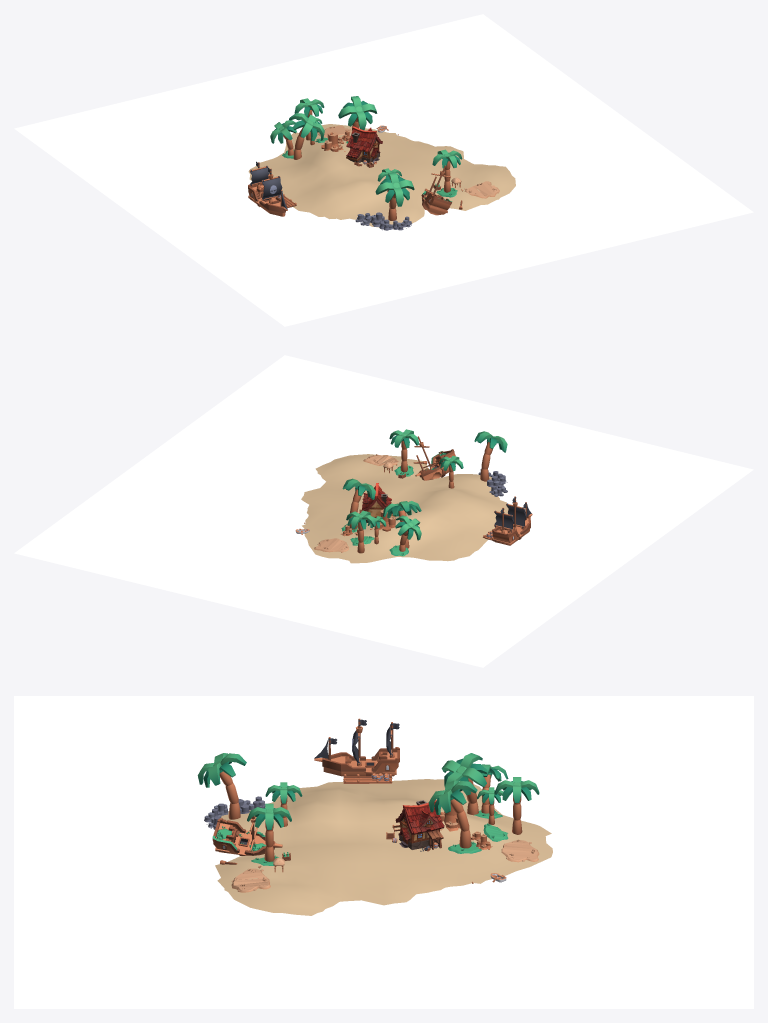
Rendered from island.glb.
3 views of the same model, one above another, from view 1: azimuth 30°, elevation 25°; view 2: azimuth 150°, elevation 25°; view 3: azimuth 270°, elevation 25° (orthographic). The views are drawn at different scales.
Visible parts, largest first — view 1: water, terrain, House, palm-detailed-bend.002, palm-detailed-bend, palm-detailed-bend.001, ship-pirate-large, ship-wreck, palm-detailed-straight; view 2: water, terrain, ship-pirate-large, ship-wreck, palm-detailed-bend.002, House, palm-detailed-straight, palm-detailed-straight.001, palm-detailed-bend.003, palm-detailed-bend; view 3: water, terrain, ship-pirate-large, House, ship-wreck, palm-detailed-bend, palm-detailed-bend.002, palm-detailed-bend.001, palm-detailed-straight, palm-detailed-straight.001, patch-sand-foliage.001, patch-sand-foliage (+1 smaller).
Part boxes in pixels (x1=…): water: x1=14, y1=14, x2=753, y2=326; terrain: x1=248, y1=124, x2=515, y2=229; House: x1=346, y1=126, x2=382, y2=162; palm-detailed-bend.002: x1=375, y1=172, x2=414, y2=220; palm-detailed-bend: x1=338, y1=96, x2=377, y2=130; palm-detailed-bend.001: x1=289, y1=113, x2=324, y2=159; ship-pirate-large: x1=248, y1=162, x2=287, y2=216; ship-wreck: x1=421, y1=165, x2=452, y2=215; palm-detailed-straight: x1=432, y1=149, x2=462, y2=192; water: x1=14, y1=355, x2=753, y2=667; terrain: x1=301, y1=454, x2=508, y2=563; ship-pirate-large: x1=492, y1=496, x2=532, y2=545; ship-wreck: x1=415, y1=436, x2=455, y2=480; palm-detailed-bend.002: x1=474, y1=431, x2=507, y2=481; House: x1=359, y1=483, x2=395, y2=522; palm-detailed-straight: x1=389, y1=429, x2=419, y2=472; palm-detailed-straight.001: x1=346, y1=510, x2=375, y2=553; palm-detailed-bend.003: x1=395, y1=515, x2=421, y2=551; palm-detailed-bend: x1=342, y1=478, x2=375, y2=529; water: x1=14, y1=696, x2=753, y2=1008; terrain: x1=215, y1=779, x2=552, y2=915; ship-pirate-large: x1=314, y1=718, x2=399, y2=776; House: x1=395, y1=800, x2=444, y2=849; ship-wreck: x1=212, y1=816, x2=282, y2=855; palm-detailed-bend: x1=428, y1=780, x2=477, y2=848; palm-detailed-bend.002: x1=197, y1=753, x2=246, y2=819; palm-detailed-bend.001: x1=441, y1=753, x2=487, y2=815; palm-detailed-straight: x1=247, y1=803, x2=291, y2=861; palm-detailed-straight.001: x1=494, y1=777, x2=539, y2=834; patch-sand-foliage.001: x1=231, y1=868, x2=270, y2=892; patch-sand-foliage: x1=501, y1=839, x2=539, y2=862.
Size of the model in its own units: 113 by 13.39 by 113.
25 materials, 23 textured.
